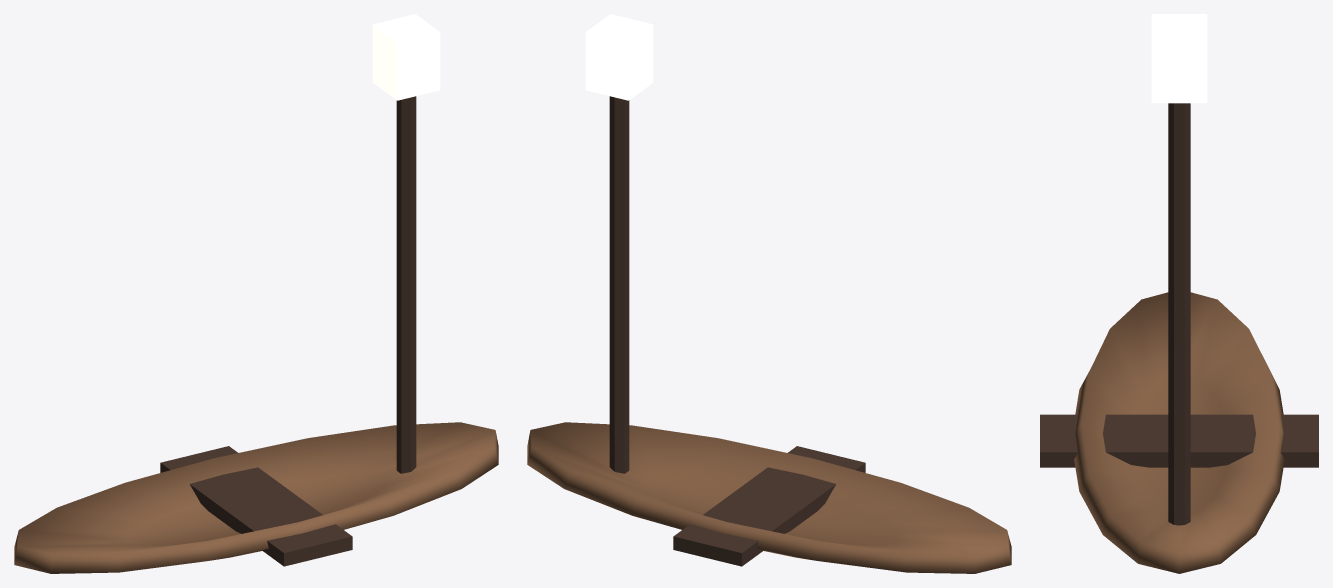
Rendered from boat.glb.
3 renders of one model, left to right at view 1: azimuth 30°, elevation 25°; view 2: azimuth 150°, elevation 25°; view 3: azimuth 270°, elevation 25°, orthographic. The views are drawn at different scales.
Visible parts, largest first — view 1: Sphere, Cube, Cylinder, Cube.001; view 2: Sphere, Cube, Cylinder, Cube.001; view 3: Sphere, Cube, Cylinder, Cube.001.
Boxes of the visible parts, left/top/right/bottom form: Sphere: left=14, top=422, right=498, bottom=573; Cube: left=160, top=446, right=352, bottom=566; Cylinder: left=396, top=96, right=416, bottom=473; Cube.001: left=372, top=14, right=440, bottom=100; Sphere: left=527, top=422, right=1011, bottom=573; Cube: left=673, top=446, right=865, bottom=566; Cylinder: left=609, top=96, right=629, bottom=473; Cube.001: left=585, top=14, right=653, bottom=100; Sphere: left=1074, top=292, right=1284, bottom=573; Cube: left=1040, top=414, right=1318, bottom=467; Cylinder: left=1168, top=103, right=1190, bottom=525; Cube.001: left=1151, top=14, right=1207, bottom=103.
Bounding box in the file's own units: 1.13 × 1.05 × 0.5.
